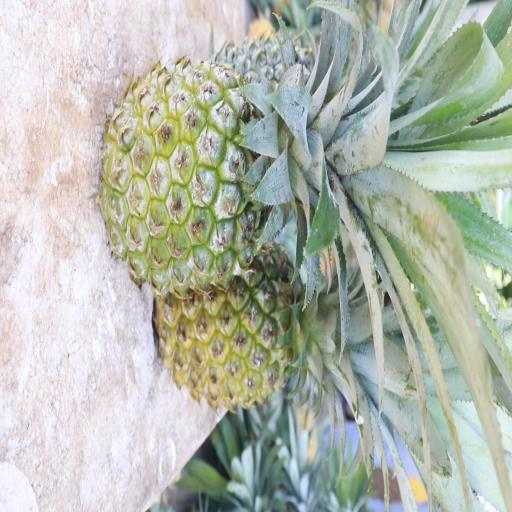------------------------------: (94, 56, 399, 312)
Pineapple - v8 v1: (149, 224, 385, 427)
